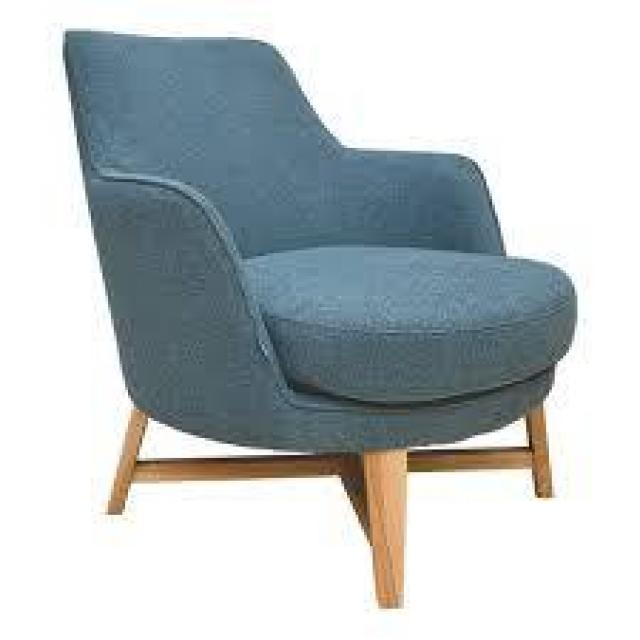chair: (40, 11, 563, 592)
